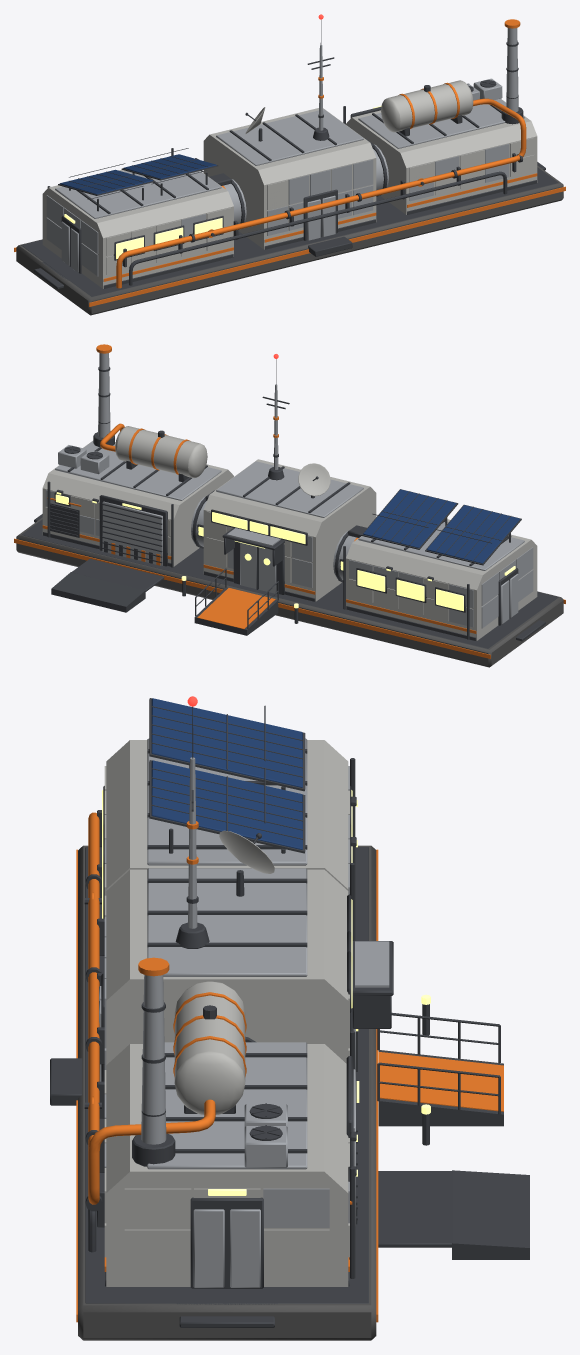
File: outpost_hab_b.glb
3 renders of one model, top to bottom at view 1: azimuth 30°, elevation 25°; view 2: azimuth 150°, elevation 25°; view 3: azimuth 270°, elevation 25°, orthographic. The views are drawn at different scales.
Parts seen in each view (by area): view 1: Hab; view 2: Hab; view 3: Hab.
Part boxes in pixels (x1,y1,x2,y2): Hab: [14, 19, 565, 315]; Hab: [14, 344, 565, 667]; Hab: [50, 698, 529, 1340].
Bounding box in the file's own units: 26.1 × 11.12 × 11.1.
